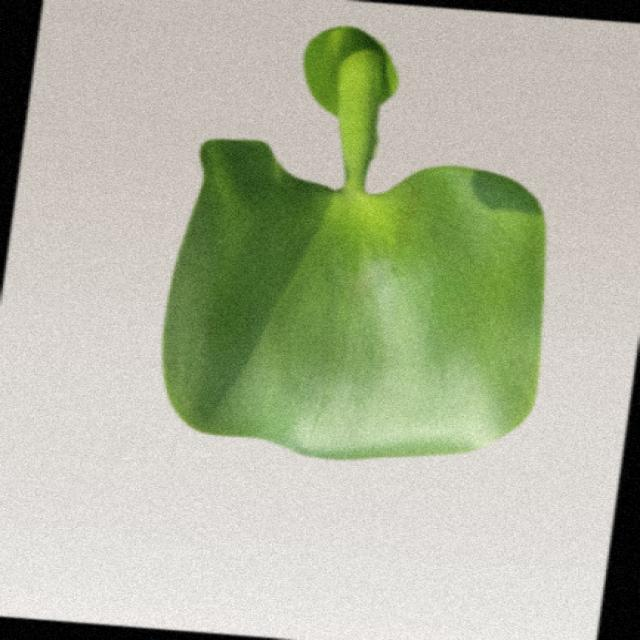daun sehat: (167, 27, 545, 459)
